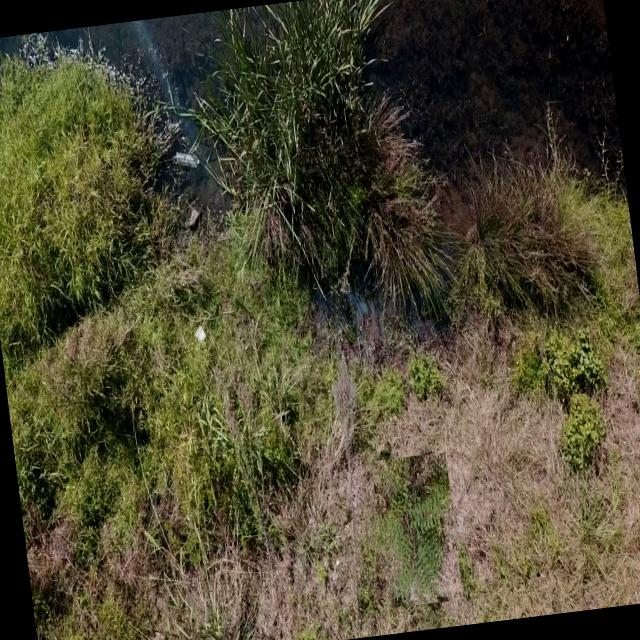Mysore-Thorn-Weed: (371, 452, 464, 608)
